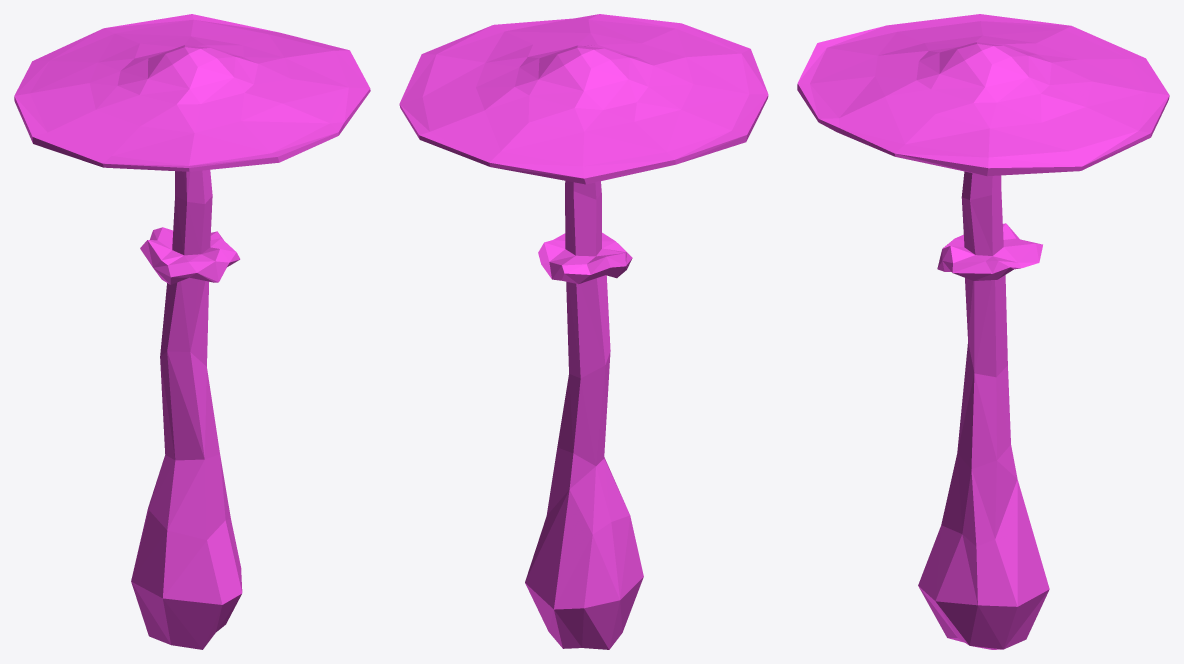
The model's file is SM_Mushroom_Slim_Medium_C_Fantasy.fbx.
The picture shows the model from 3 angles, left to right: view 1: azimuth 30°, elevation 25°; view 2: azimuth 150°, elevation 25°; view 3: azimuth 270°, elevation 25°; orthographic projection.
Visible parts, largest first — view 1: SM_Mushroom_Slim_Medium_C_Fantasy; view 2: SM_Mushroom_Slim_Medium_C_Fantasy; view 3: SM_Mushroom_Slim_Medium_C_Fantasy.
Boxes of the visible parts, box(x1,y1,x2,y2) form: SM_Mushroom_Slim_Medium_C_Fantasy: box(14, 14, 370, 649); SM_Mushroom_Slim_Medium_C_Fantasy: box(399, 14, 768, 649); SM_Mushroom_Slim_Medium_C_Fantasy: box(797, 14, 1169, 649).
Bounding box in the file's own units: 1.11 × 1.94 × 1.09.
